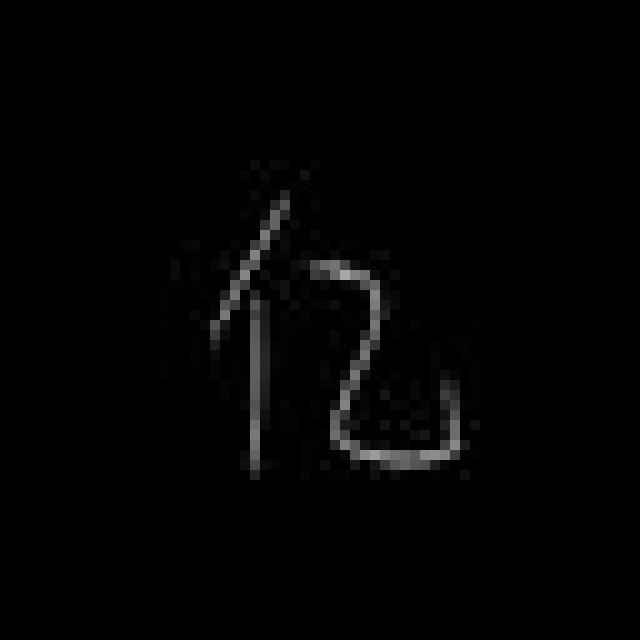100000 -a hundred thousand-: (200, 182, 474, 488)
